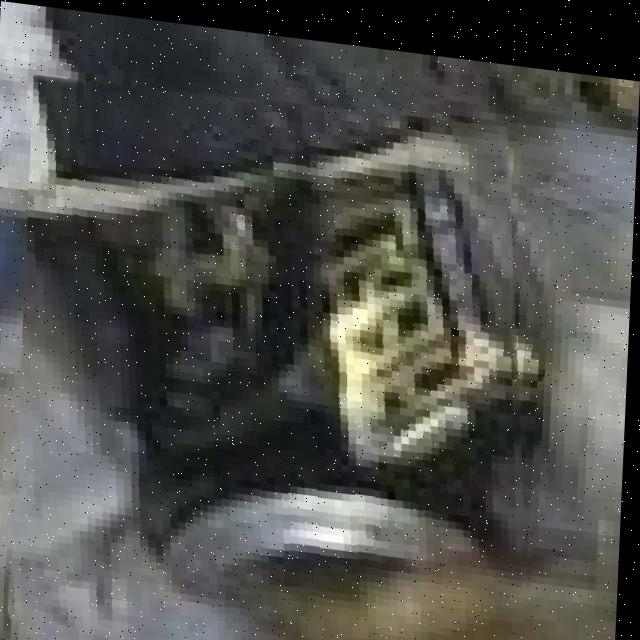litter: (26, 108, 523, 640)
